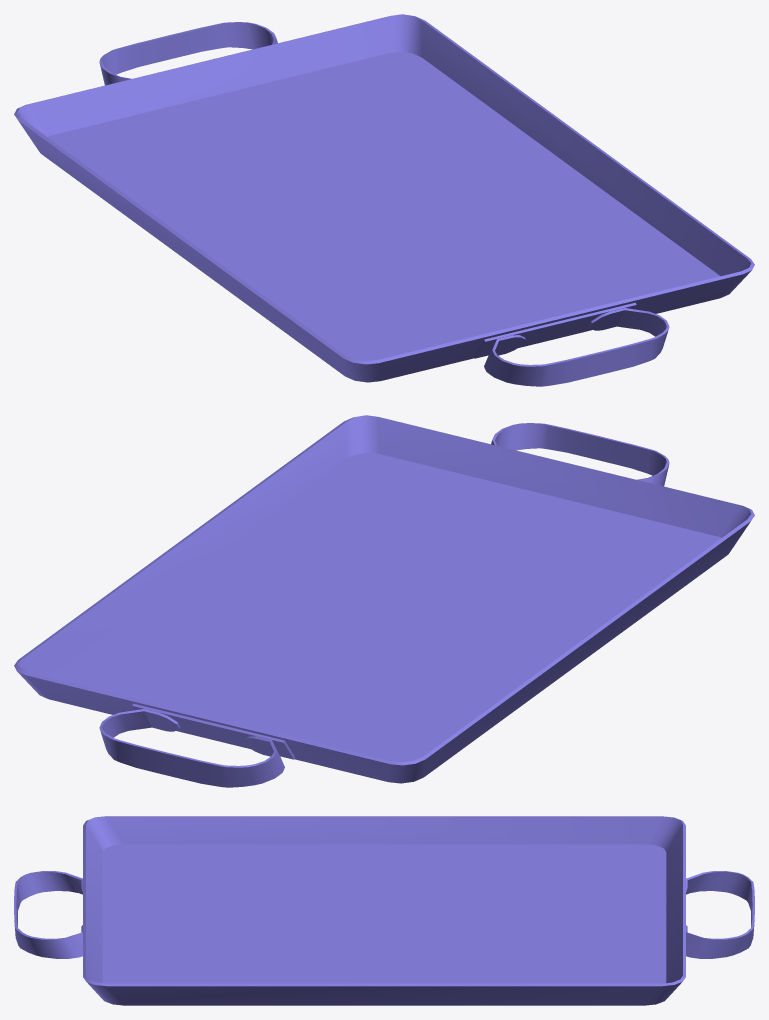
The model's file is plate7.fbx.
3 renders of one model, top to bottom at view 1: azimuth 30°, elevation 25°; view 2: azimuth 150°, elevation 25°; view 3: azimuth 270°, elevation 25°, orthographic. The views are drawn at different scales.
Parts seen in each view (by area): view 1: Plane_Plate_0; view 2: Plane_Plate_0; view 3: Plane_Plate_0.
Part boxes in pixels (left/top/right/bottom): Plane_Plate_0: left=14, top=14, right=754, bottom=386; Plane_Plate_0: left=14, top=415, right=754, bottom=787; Plane_Plate_0: left=14, top=816, right=754, bottom=1005.
Bounding box in the file's own units: 108 × 7.76 × 199.
